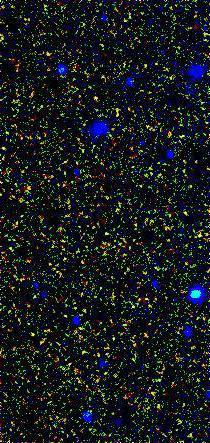star: (83, 82, 113, 112)
